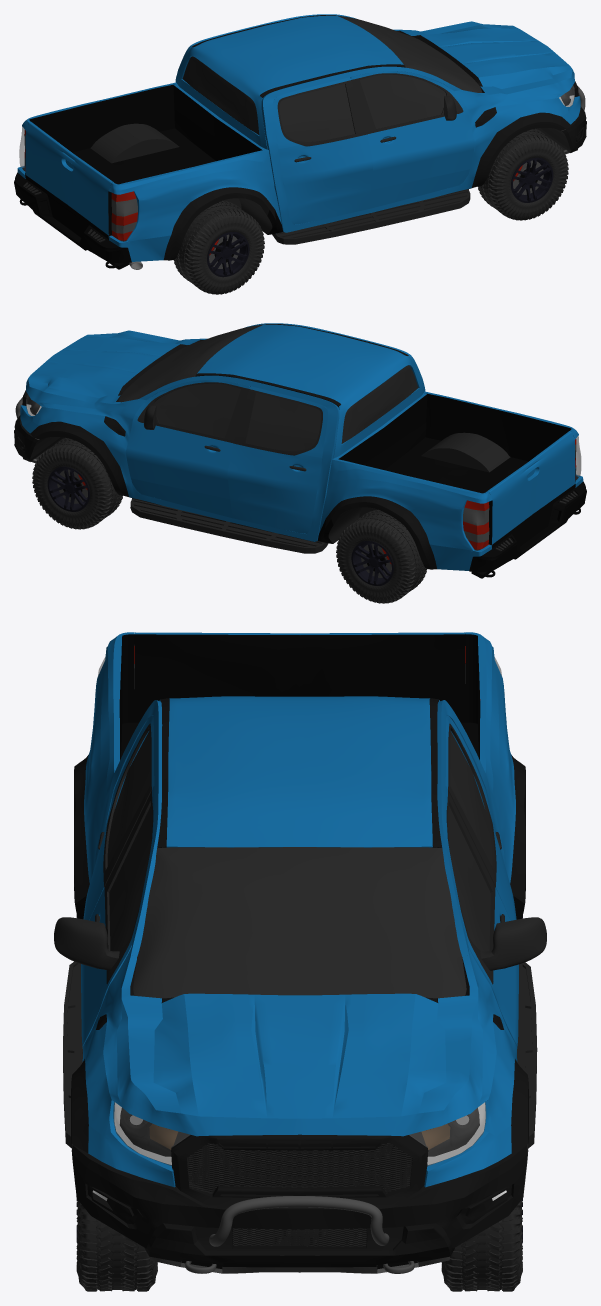
The model's file is ranger_raptor.glb.
The picture shows the model from 3 angles, top to bottom: view 1: azimuth 30°, elevation 25°; view 2: azimuth 150°, elevation 25°; view 3: azimuth 270°, elevation 25°; orthographic projection. The views are drawn at different scales.
Visible parts, largest first — view 1: Object_4, Object_9, Object_8, Object_5, Object_50, Object_7, Object_52, Object_10, Object_6, Object_11, Object_14; view 2: Object_4, Object_9, Object_8, Object_5, Object_50, Object_7, Object_52, Object_10, Object_6, Object_11, Object_14; view 3: Object_4, Object_8, Object_7, Object_9, Object_5, Object_50, Object_24, Object_14, Object_11, Object_13, Object_25, Object_16 (+1 smaller).
Boxes of the visible parts, x1,y1,x2,y2 form: Object_4: (17, 14, 580, 261); Object_9: (14, 84, 538, 269); Object_8: (182, 15, 482, 141); Object_5: (22, 73, 570, 244); Object_50: (173, 128, 568, 294); Object_7: (127, 15, 586, 260); Object_52: (207, 157, 553, 277); Object_10: (24, 129, 522, 255); Object_6: (24, 135, 137, 233); Object_11: (209, 86, 585, 268); Object_14: (19, 85, 574, 167); Object_4: (20, 323, 583, 570); Object_9: (62, 393, 586, 578); Object_8: (118, 324, 418, 450); Object_5: (30, 382, 578, 553); Object_50: (32, 437, 427, 603); Object_7: (14, 324, 436, 569); Object_52: (47, 466, 393, 585); Object_10: (78, 439, 576, 564); Object_6: (463, 444, 576, 542); Object_11: (15, 397, 391, 577); Object_14: (25, 394, 581, 476); Object_4: (81, 632, 518, 1187); Object_8: (107, 710, 492, 998); Object_7: (71, 698, 528, 1269); Object_9: (74, 634, 525, 997); Object_5: (54, 723, 546, 1197); Object_50: (76, 1141, 522, 1291); Object_24: (187, 1143, 412, 1246); Object_14: (95, 645, 504, 1166); Object_11: (185, 1196, 414, 1273); Object_13: (120, 1108, 479, 1156); Object_25: (149, 1256, 449, 1273); Object_16: (114, 1102, 485, 1164).
Size of the model in its own units: 5.22 by 1.75 by 2.2.
